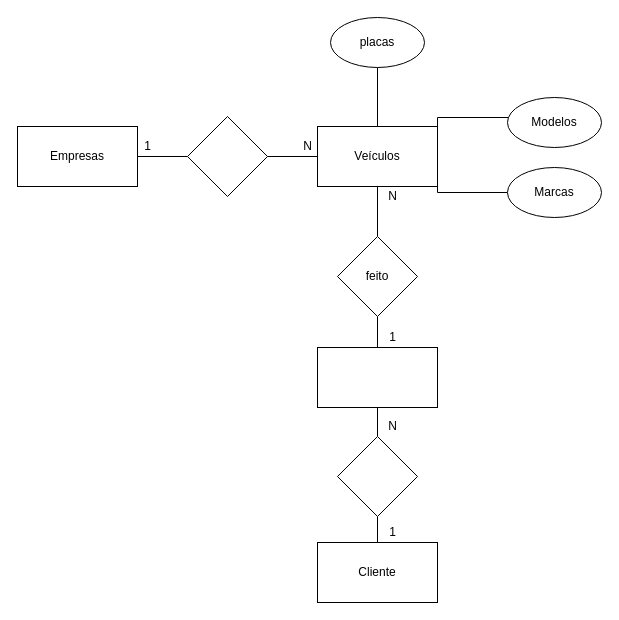
Some shapes in this 619 by 620 pixel diagram are drawn without their labels. The box of each missing label's shape, as (x1, y1, x2, y2) in pixels:
Alugueis: (316, 346, 438, 408)
faz: (336, 436, 418, 516)
Possui: (186, 116, 268, 196)
